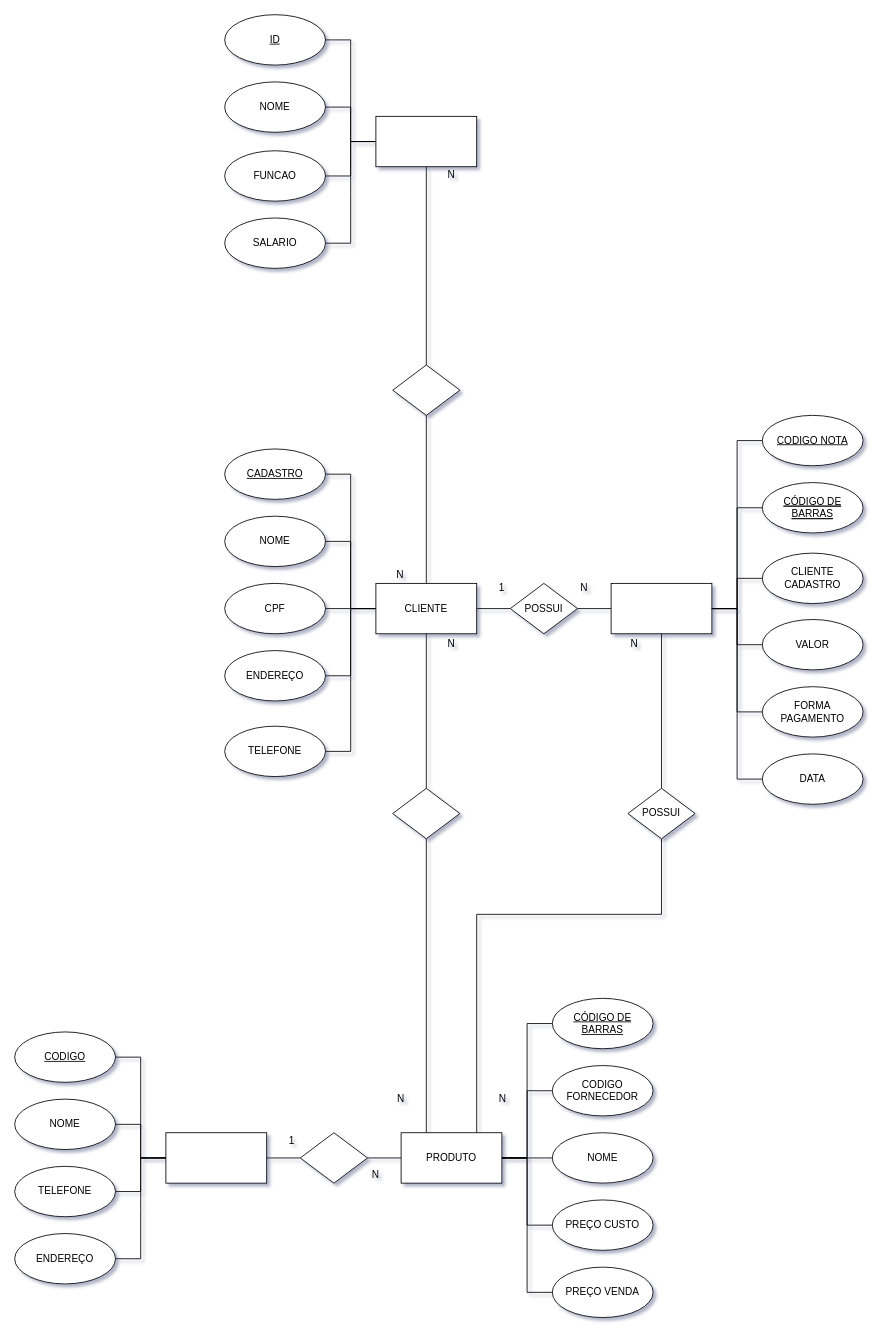
Some shapes in this 883 by 1337 pixel diagram are drawn without their labels. Each missing label, with the centre of its shape:
"AUXILIA" belongs at [426,389].
"COMPRA" belongs at [426,813].
"FORNECE" belongs at [333,1157].
"FORNECEDOR" belongs at [216,1157].
"FUNCIONARIO" belongs at [426,141].
"NOTA FISCAL" belongs at [661,608].
